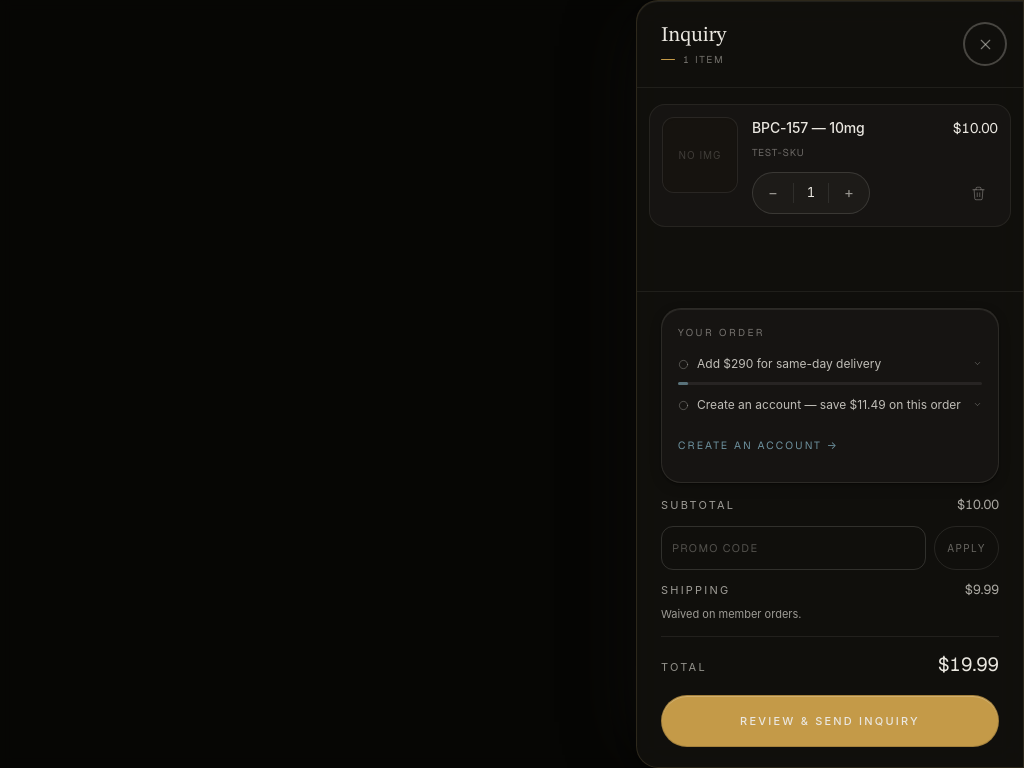
Test case: CartDrawer — confirmation line matches the gate attestation › renders the 21+/research-only/not-for-human attestation, not the old weaker line
Click the button "Review & Send Inquiry" at (830, 721), box top-left (661, 695), bottom-right (999, 747)
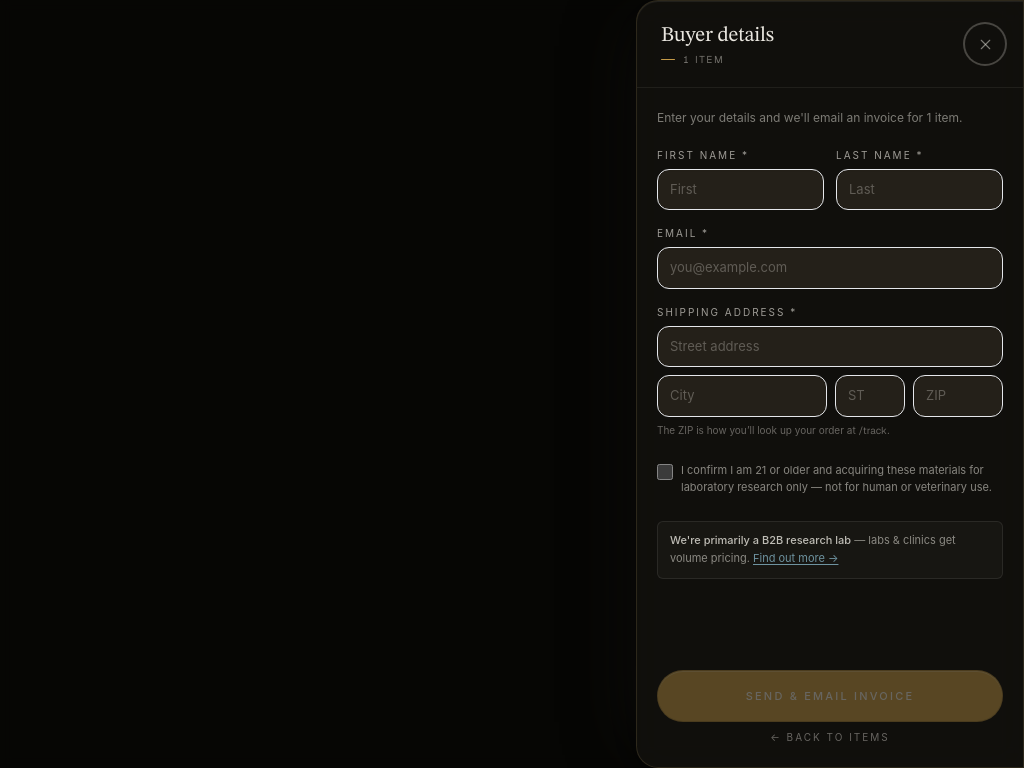
Expected: the text "I confirm I am 21 or older and acquiring these materials for laboratory research only — not for human or veterinary use." is shown, top-left (681, 462), bottom-right (992, 494)
